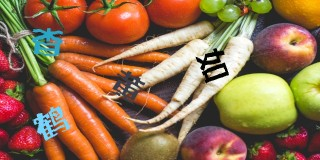如: (196, 47, 229, 82)
杳: (31, 25, 62, 56)
鹤: (32, 105, 71, 141)
黄: (112, 68, 147, 103)
